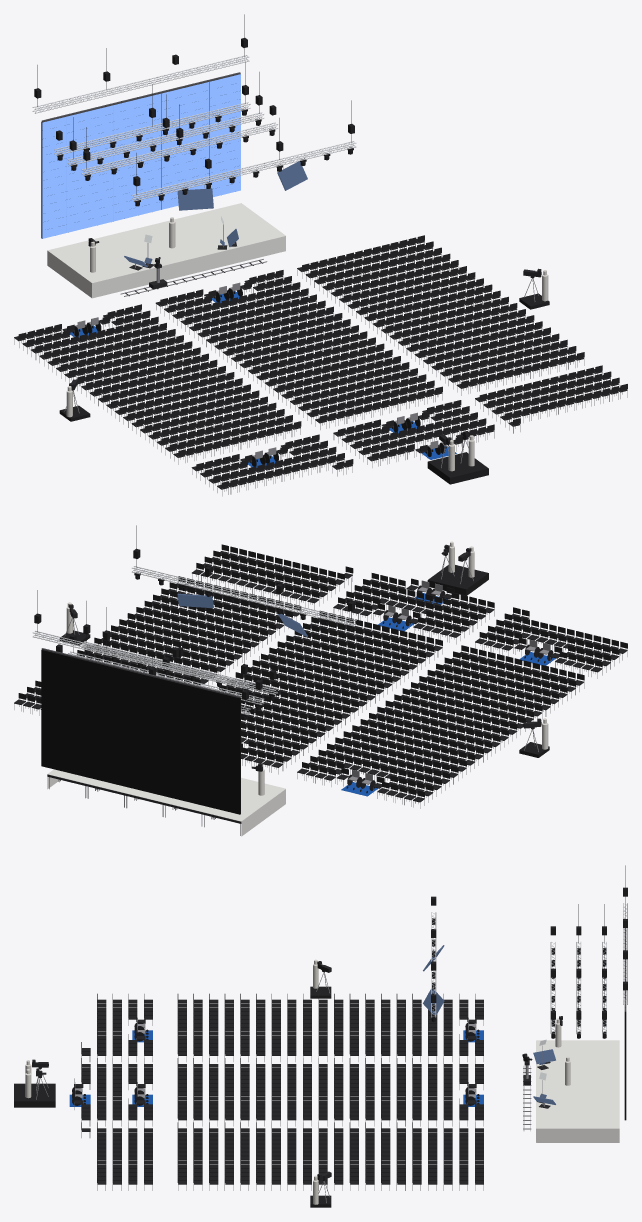
The model's file is minimal-keynote.glb.
The picture shows the model from 3 angles, top to bottom: view 1: azimuth 30°, elevation 25°; view 2: azimuth 150°, elevation 25°; view 3: azimuth 270°, elevation 25°; orthographic projection. The views are drawn at different scales.
Parts seen in each view (by area): view 1: FASCIA.MAIN.FRONT, BC.PLATFORM.FOH, FASCIA.MAIN.LEFT.1, BC.FOHMON.L; view 2: BC.PLATFORM.FOH, FASCIA.MAIN.LEFT.1, BC.FOHMON.R; view 3: FASCIA.MAIN.RIGHT.2, BC.PLATFORM.FOH.
Boxes of the visible parts, x1,y1,x2,y2 form: FASCIA.MAIN.FRONT: [92, 236, 285, 298]; BC.PLATFORM.FOH: [427, 452, 488, 484]; FASCIA.MAIN.LEFT.1: [47, 250, 92, 297]; BC.FOHMON.L: [177, 188, 213, 210]; BC.PLATFORM.FOH: [427, 565, 488, 595]; FASCIA.MAIN.LEFT.1: [241, 789, 285, 836]; BC.FOHMON.R: [177, 593, 213, 608]; FASCIA.MAIN.RIGHT.2: [536, 1128, 619, 1142]; BC.PLATFORM.FOH: [14, 1083, 55, 1107].
Size of the model in its own units: 30.26 by 12.03 by 35.93.
